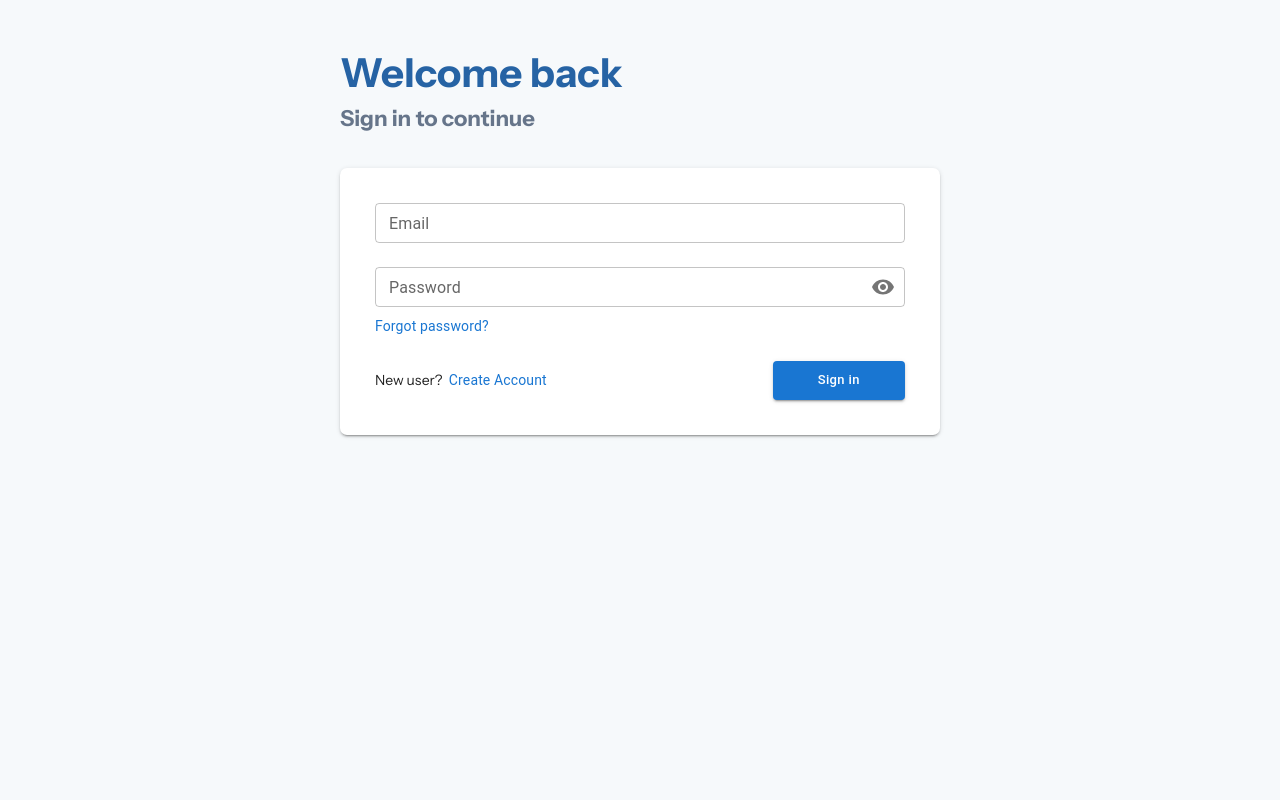
Test: LoginForm › submits form with valid input
Step 1. Type "test@example.com" into the field labelled "Email" → (640, 223), box [375,203,905,243]
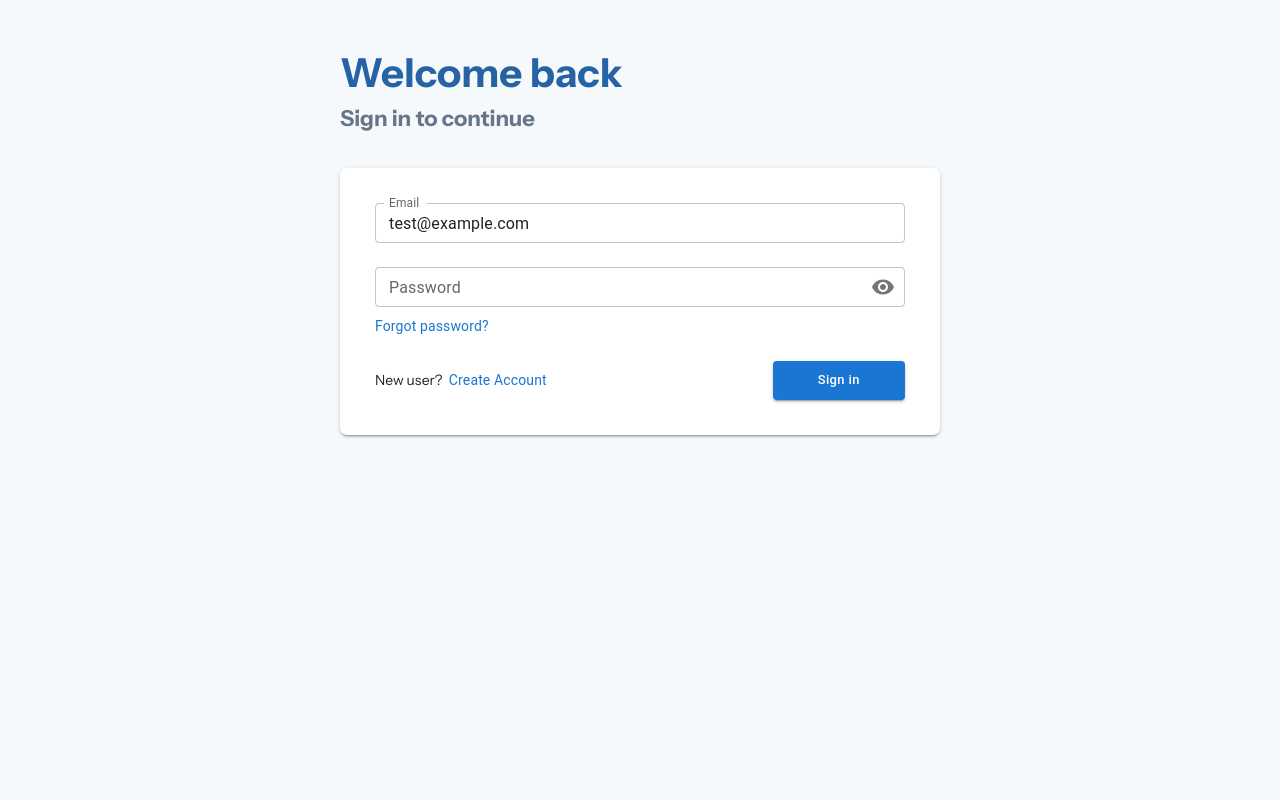
Step 2. Type "p@s$w0rd" into the password field labelled "Password" → (615, 287), box [375,267,855,307]
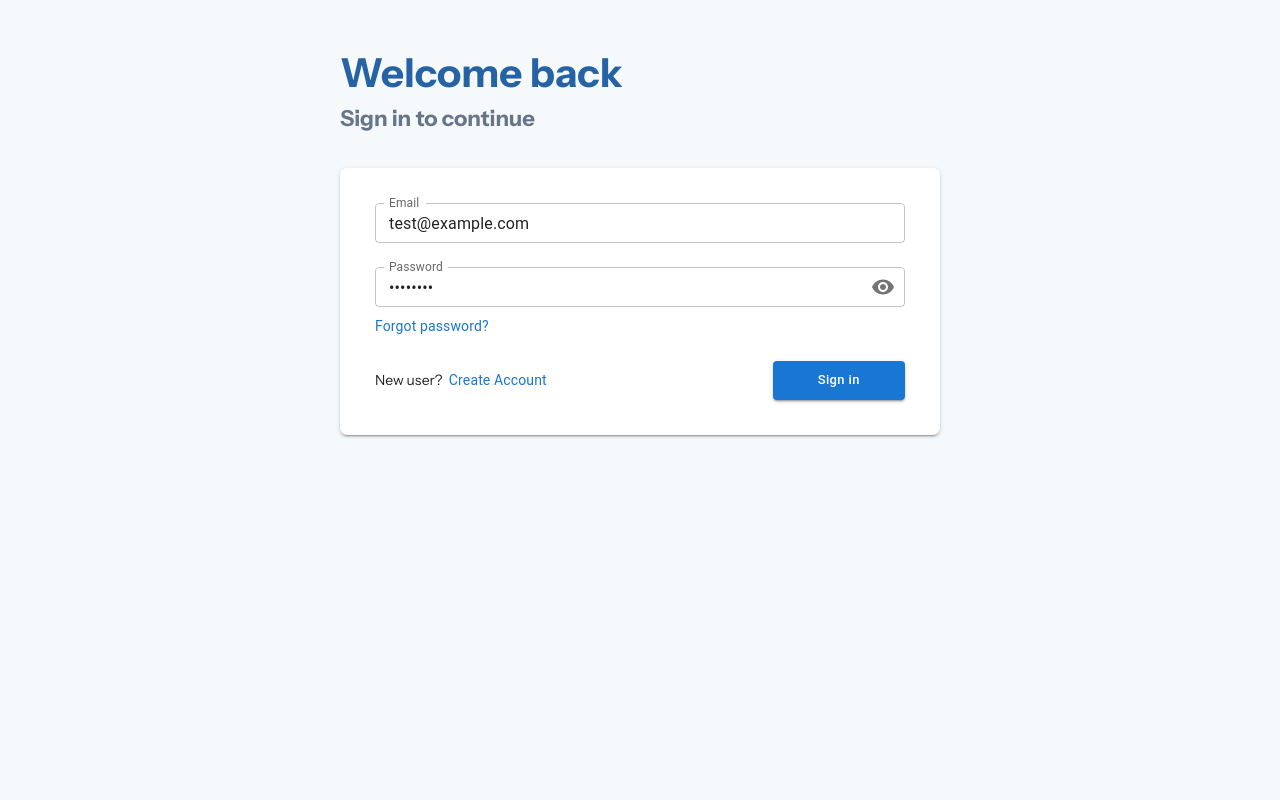
Step 3. Click the button "Sign in" → (839, 380), box [772,361,905,400]
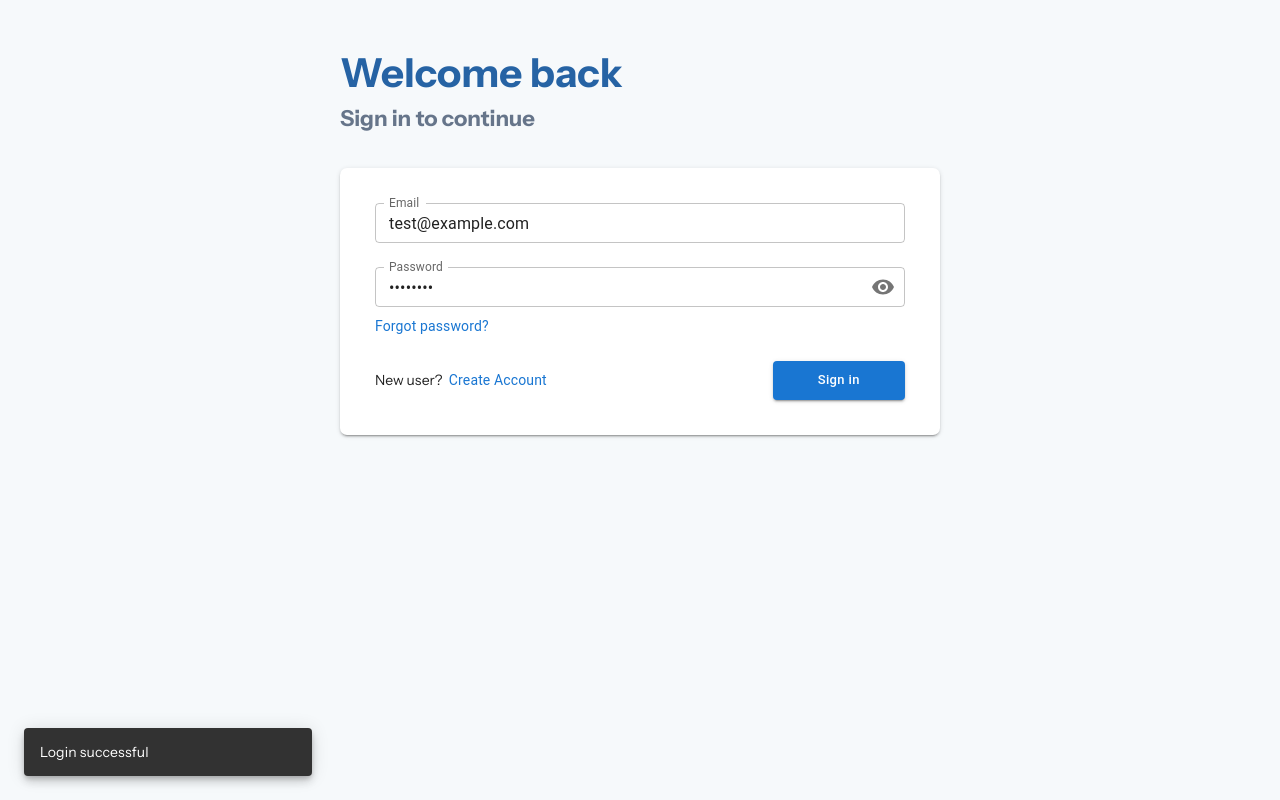
Now the text "Login successful" is shown, box [40,743,149,761]
